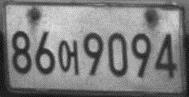0: (107, 32, 129, 77)
4: (153, 33, 177, 79)
6: (33, 30, 55, 74)
8: (10, 29, 32, 75)
9: (130, 32, 152, 79), (82, 32, 104, 76)
어: (57, 38, 80, 76)
